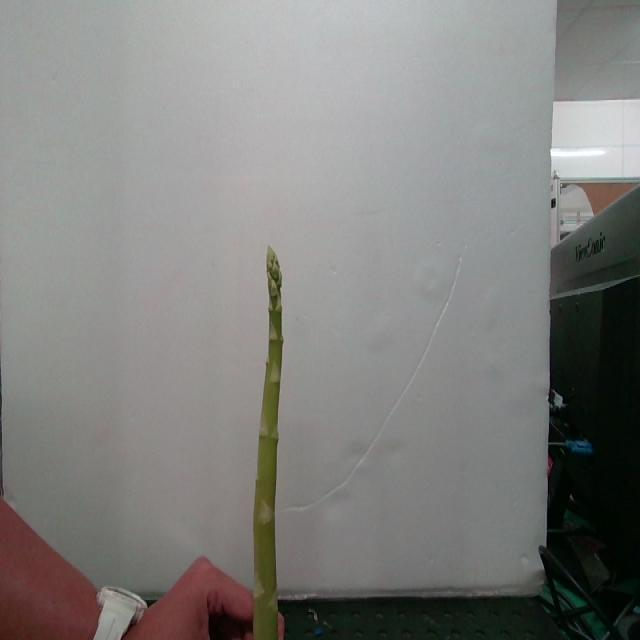aspargus: (252, 249, 284, 640)
